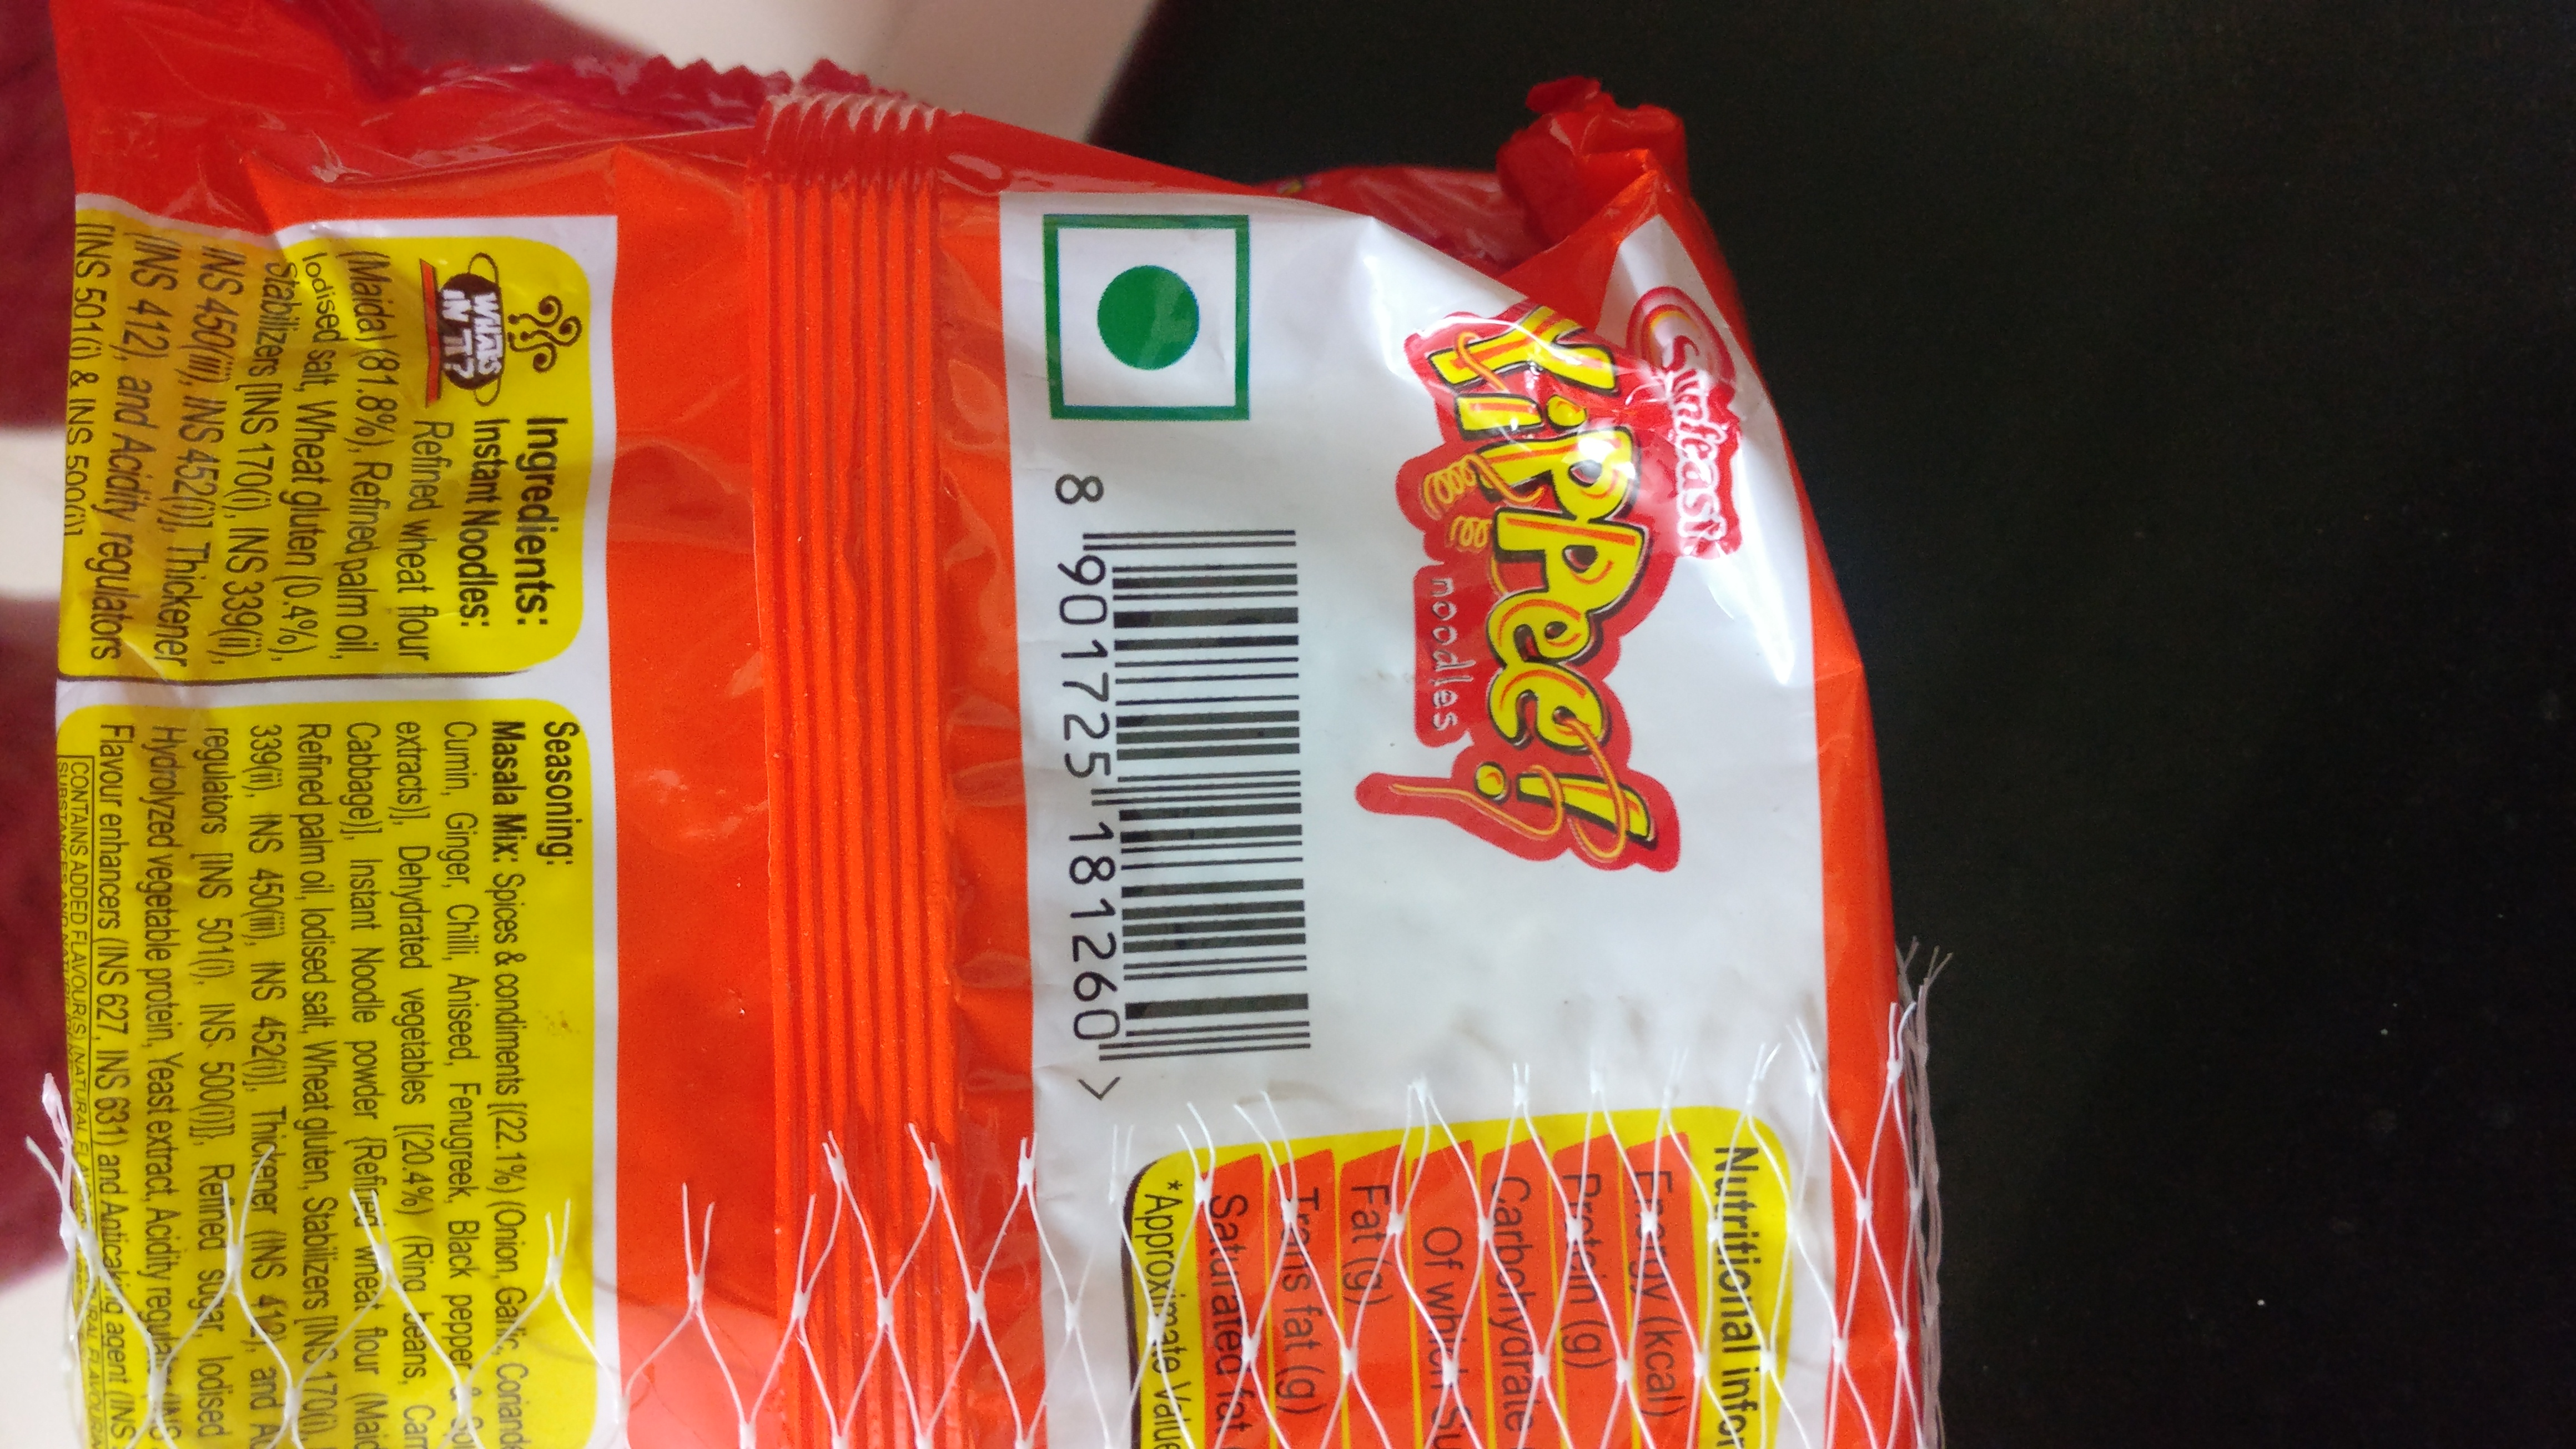barcode: (1021, 460, 1327, 1095)
